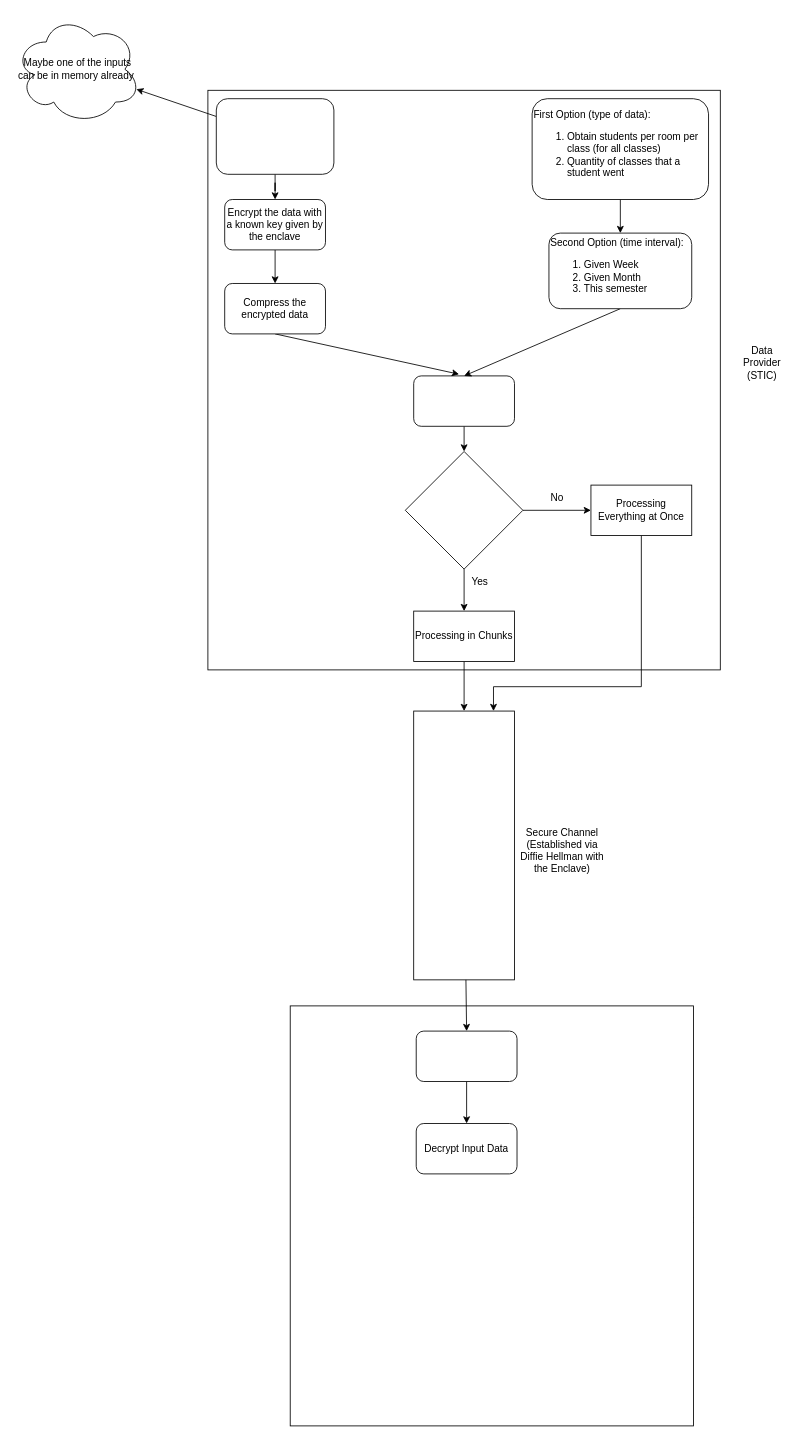
The diagram is 802 pixels wide and 1441 high, and some of its shapes have lost their labels. The shapes that lost their labels are listed below. From the top down, each one's centre as x and y in pixels, then its label:
At point (274, 136): "Input Data: Wifi Logs Class schedule Student lists".
At point (463, 400): "Merge all the input data".
At point (463, 510): "Is the input size bigger then the EPC memory?".
At point (466, 1056): "Decompress Input Data".
